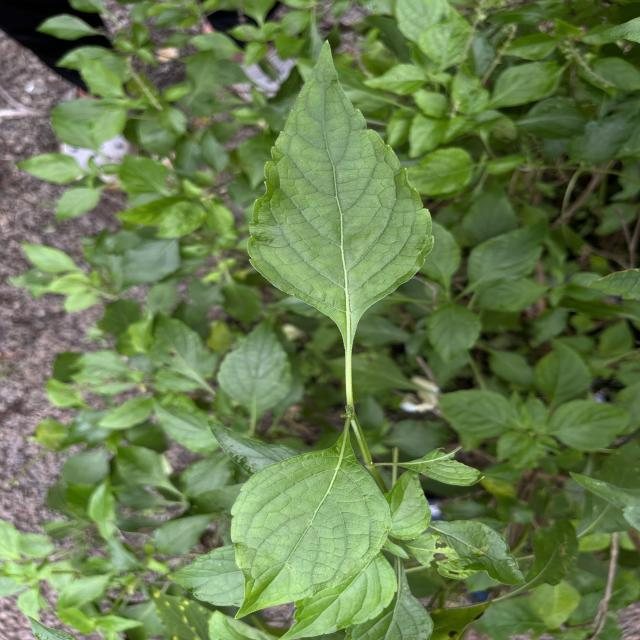Ocimum gratissimum: (244, 34, 437, 364), (225, 422, 396, 628), (277, 552, 399, 640)
